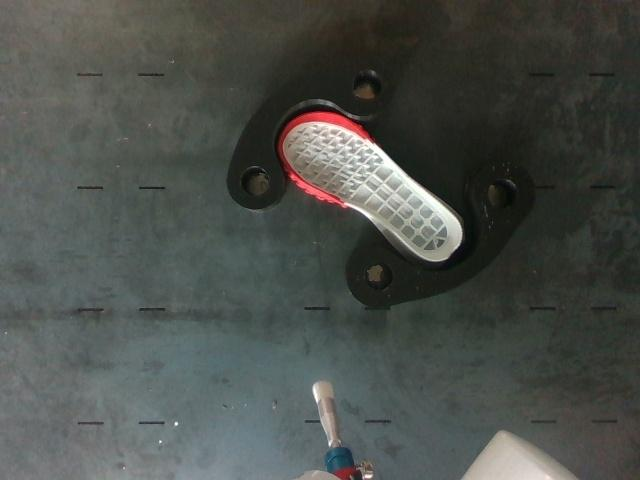shoes: (280, 113, 462, 261)
